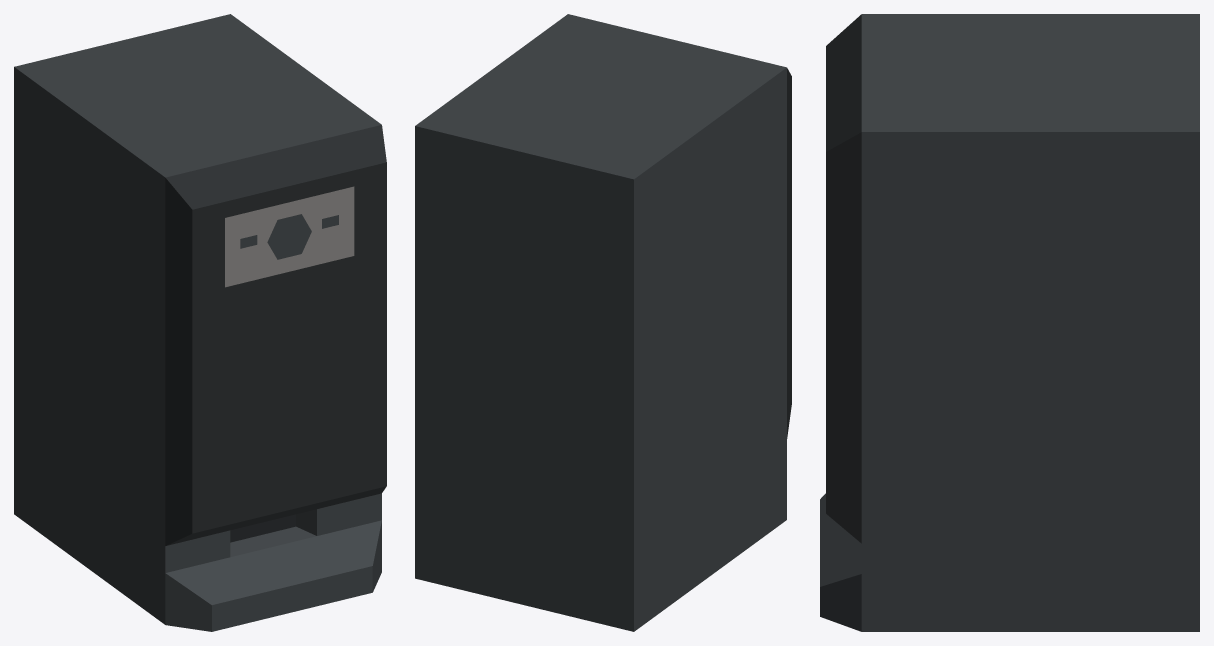
File: SM_Prop_Stereo_Speaker_01.glb
3 views of the same model, side by side, from view 1: azimuth 30°, elevation 25°; view 2: azimuth 150°, elevation 25°; view 3: azimuth 270°, elevation 25° (orthographic). The views are drawn at different scales.
Visible parts, largest first — view 1: SM_Prop_Stereo_Speaker_01; view 2: SM_Prop_Stereo_Speaker_01; view 3: SM_Prop_Stereo_Speaker_01.
Boxes of the visible parts, bbox=[...] form: SM_Prop_Stereo_Speaker_01: bbox=[14, 14, 386, 631]; SM_Prop_Stereo_Speaker_01: bbox=[415, 14, 791, 631]; SM_Prop_Stereo_Speaker_01: bbox=[820, 14, 1199, 631].
Bounding box in the file's own units: 0.3543 × 0.6997 × 0.4816.
Materials: 1 (1 with a texture image).
